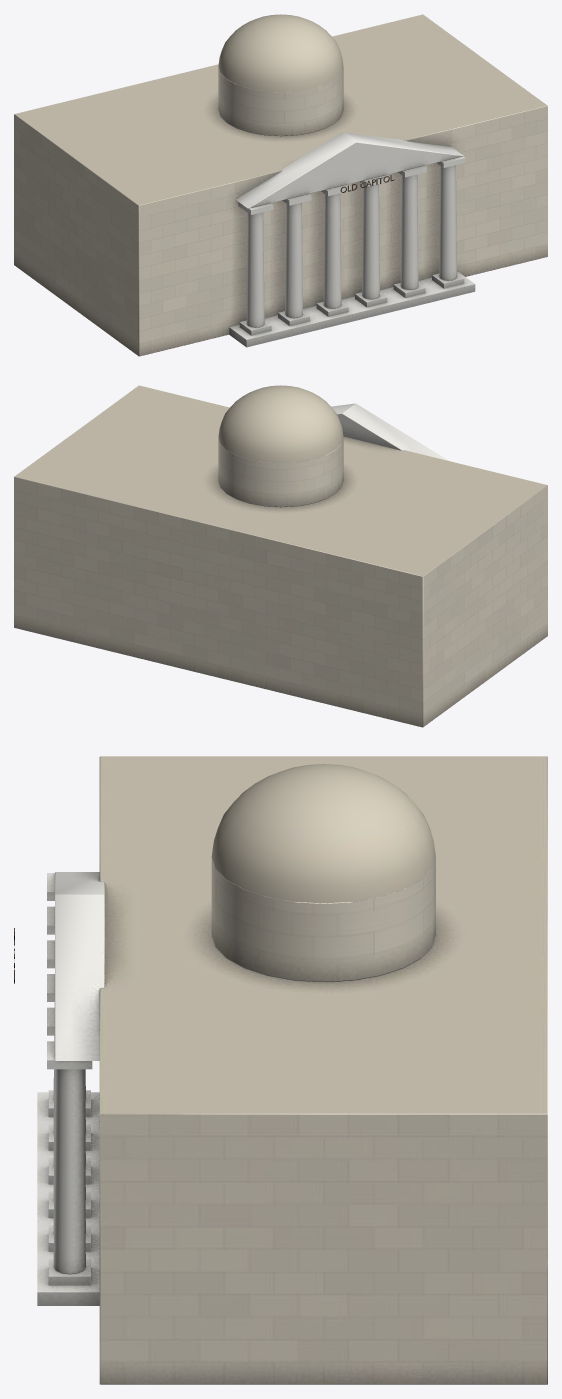
Rendered from old_capitol_ms.glb.
3 renders of one model, top to bottom at view 1: azimuth 30°, elevation 25°; view 2: azimuth 150°, elevation 25°; view 3: azimuth 270°, elevation 25°, orthographic. The views are drawn at different scales.
Parts seen in each view (by area): view 1: old_capitol_ms; view 2: old_capitol_ms; view 3: old_capitol_ms.
Part boxes in pixels (<box>): old_capitol_ms: <box>14,14,547,356</box>; old_capitol_ms: <box>14,385,547,727</box>; old_capitol_ms: <box>14,756,547,1384</box>.
Size of the model in its own units: 34 by 19 by 21.44.
1 material, 1 textured.
